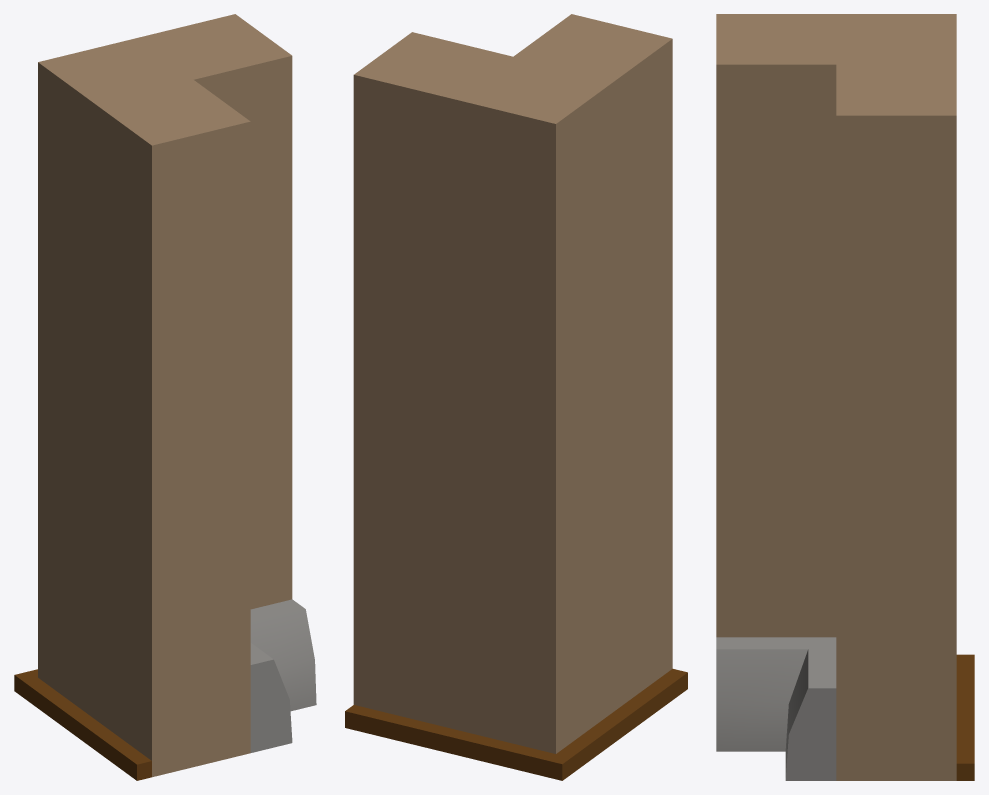
The model's file is SM_Wall_Corner_Inner_NoTop.fbx.
The picture shows the model from 3 angles, left to right: view 1: azimuth 30°, elevation 25°; view 2: azimuth 150°, elevation 25°; view 3: azimuth 270°, elevation 25°; orthographic projection. The views are drawn at different scales.
Parts seen in each view (by area): view 1: SM_Wall_Corner_Inner_NoTop; view 2: SM_Wall_Corner_Inner_NoTop; view 3: SM_Wall_Corner_Inner_NoTop.
Boxes of the visible parts, <box> form: SM_Wall_Corner_Inner_NoTop: <box>14,14,316,780</box>; SM_Wall_Corner_Inner_NoTop: <box>345,14,687,780</box>; SM_Wall_Corner_Inner_NoTop: <box>716,14,974,780</box>.
Size of the model in its own units: 108 by 306 by 108.
